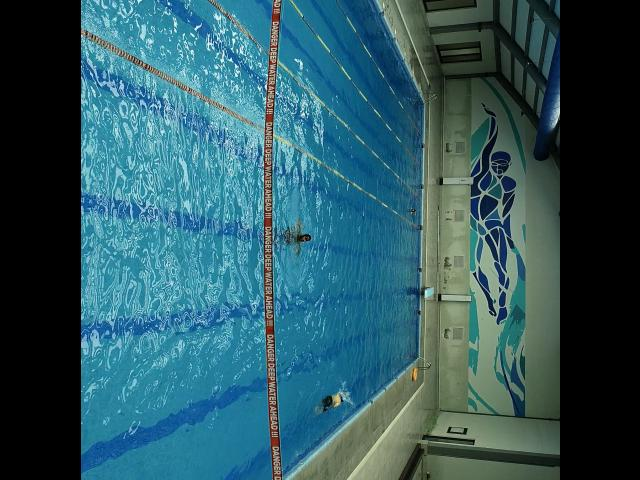swimming: (287, 223, 315, 253), (320, 392, 348, 410), (406, 207, 416, 218)
